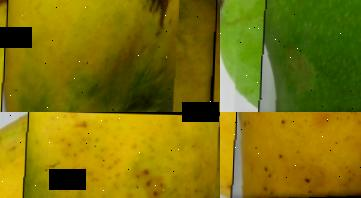PartiallyRipe: (0, 112, 220, 198)
Ripe: (0, 0, 218, 112), (220, 112, 361, 198)
Unripe: (233, 0, 361, 112)
